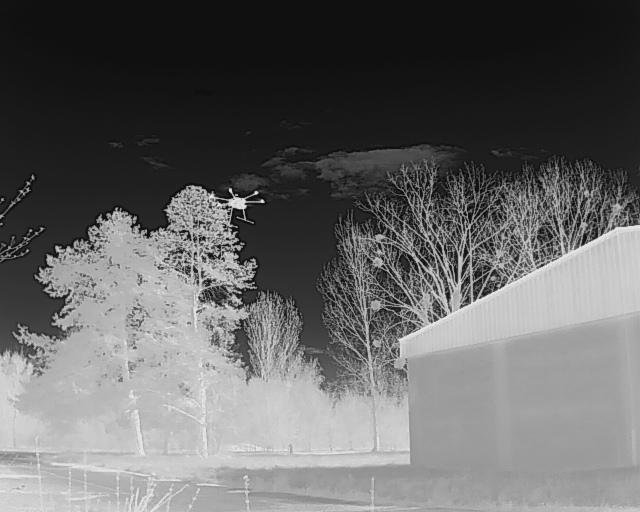drone: (208, 180, 270, 228)
